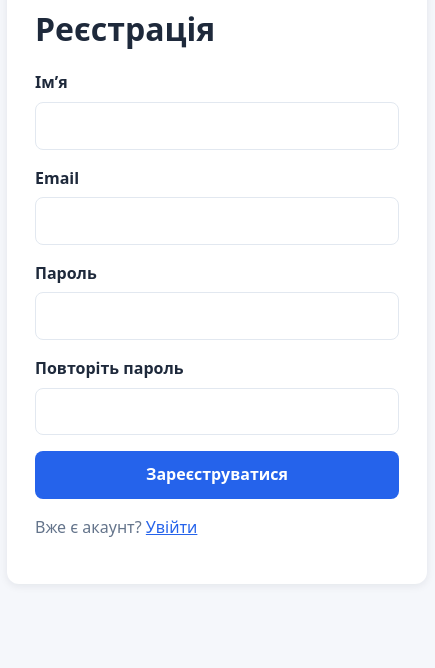
Test case: RegisterPage › показує повідомлення сервера, якщо email зайнятий
The image size is (435, 668).
In the field labelled "Імʼя": [217, 126] box [35,102,399,150], type "Іван"
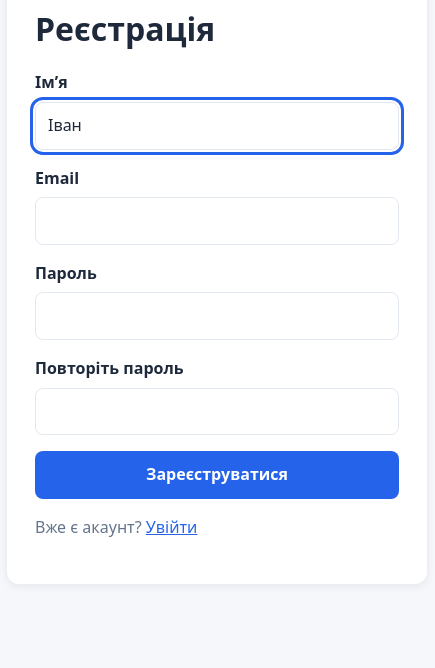
In the field labelled "Email": [217, 221] box [35,197,399,245], type "ivan@test.ua"
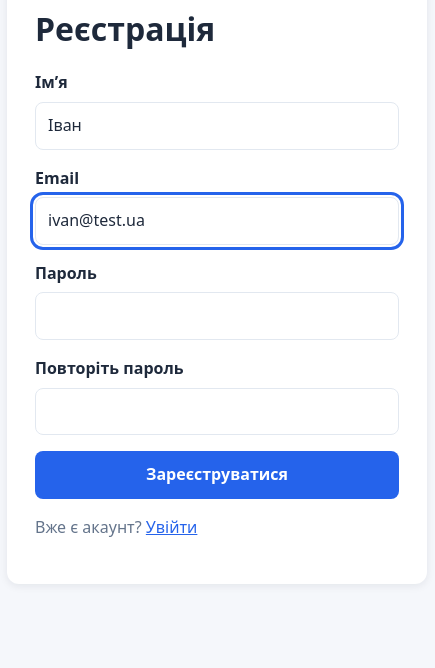
In the password field labelled "Пароль": [217, 316] box [35,292,399,340], type "123456"
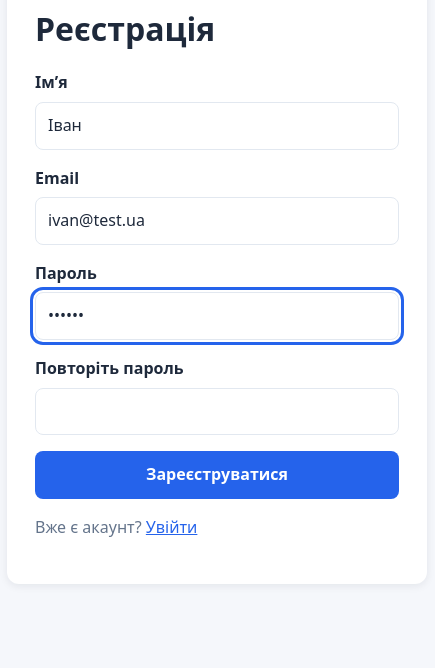
In the password field labelled "Повторіть пароль": [217, 411] box [35,388,399,435], type "123456"
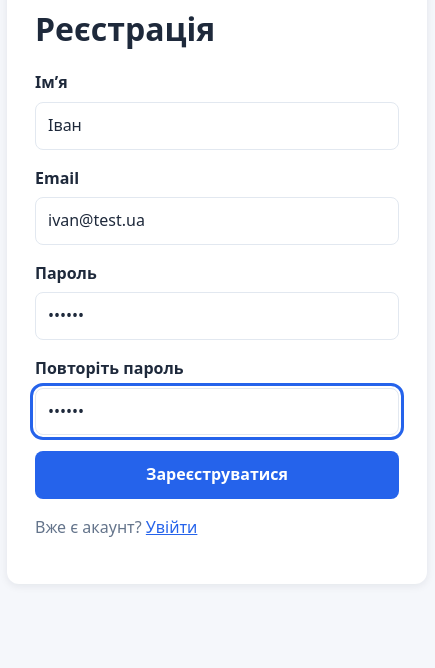
Click the button "Зареєструватися": [217, 475] box [35,451,399,499]
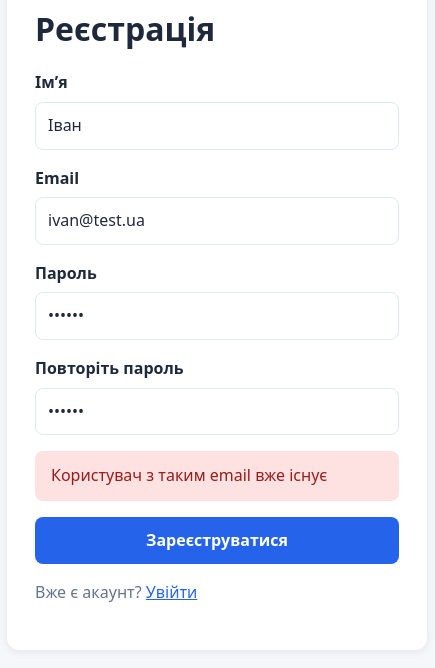
expect the message reads "Користувач з таким email вже існує": met, box [51,464,327,486]
